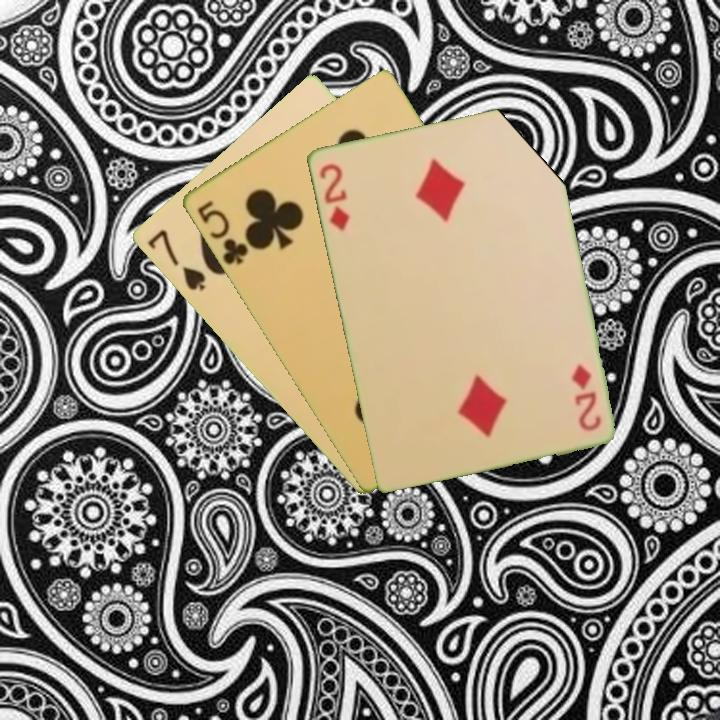2d: (315, 159, 352, 234), (567, 360, 604, 434)
5c: (193, 197, 251, 268)
7s: (143, 226, 208, 294)
